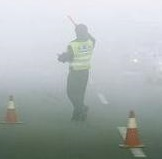person: (55, 22, 99, 123)
